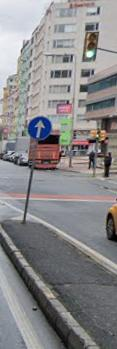forward: (28, 119, 50, 138)
greenlight: (82, 30, 98, 61)
